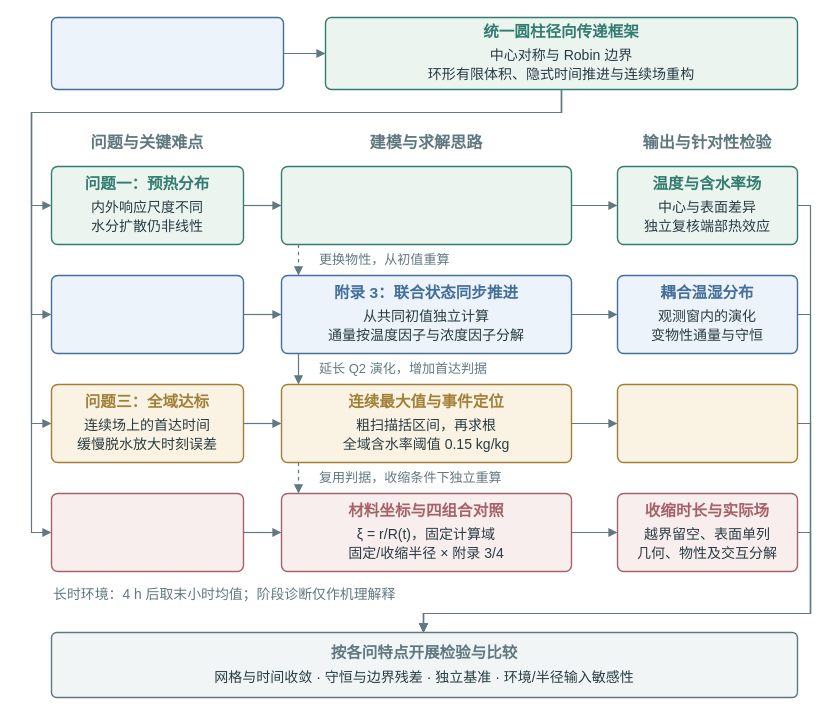
Some shapes in this 836 by 716 pixel diagram are drawn without their labels. The box of each missing label's shape, as (x1, y1, x2, y2) in pixels:
固定半径达标时长 空间、时间与重构 三类误差分离检验: (616, 383, 798, 463)
问题二：热质耦合 温度、含水率与物性 形成双向反馈: (50, 274, 244, 354)
问题四：收缩影响 时变区域与材料守恒 几何、物性作用并存: (50, 492, 244, 572)
附录 2：热质场解耦 固定半径的一维径向模型 保留非线性水分扩散: (280, 165, 572, 245)
题面与附件 几何、烘房时序、物性 收缩轨迹与共同初值: (50, 16, 284, 90)
